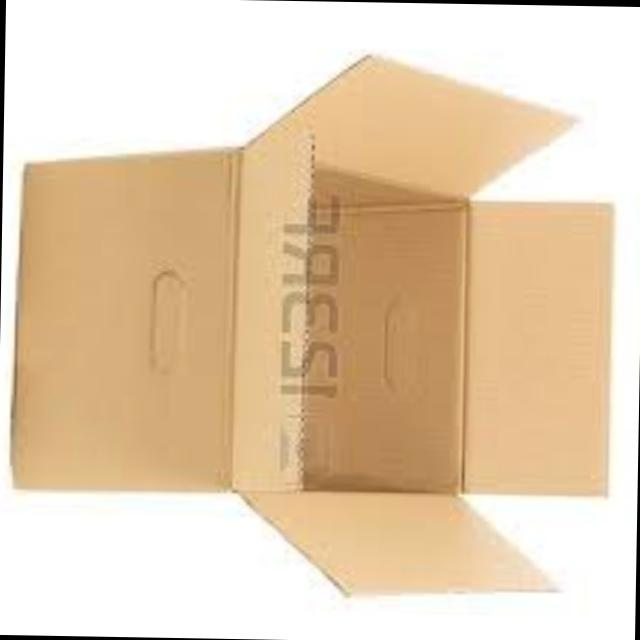cardboard paper: (18, 63, 616, 597)
